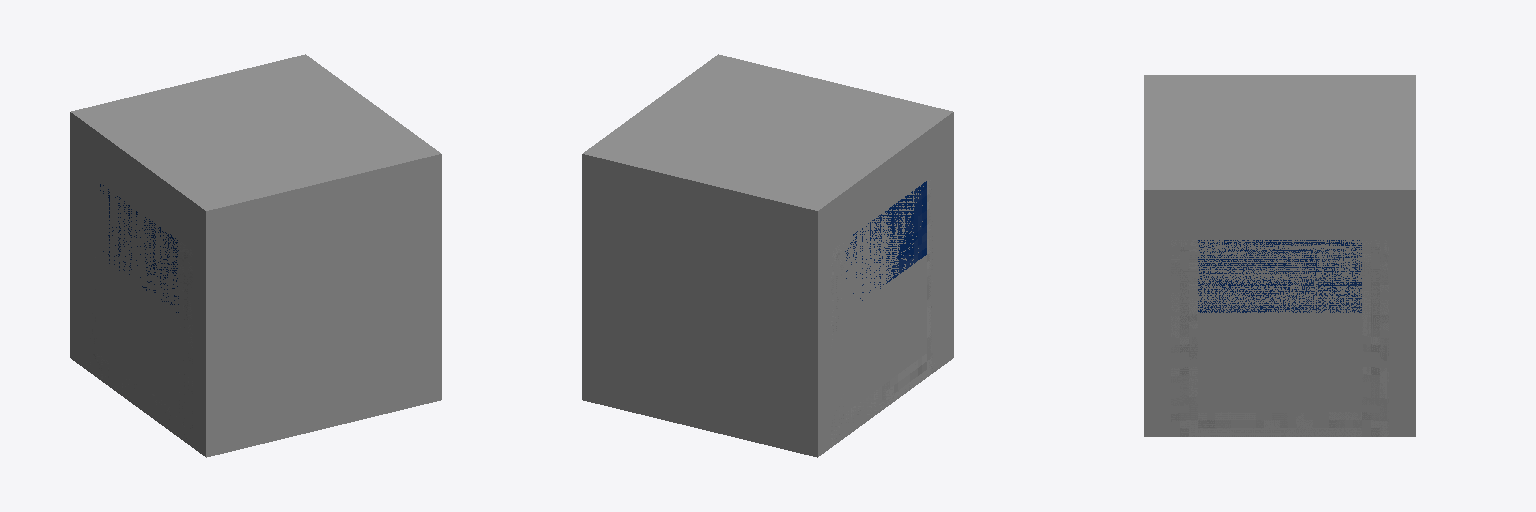
The picture shows the model from 3 angles: view 1: azimuth 30°, elevation 25°; view 2: azimuth 150°, elevation 25°; view 3: azimuth 270°, elevation 25°; orthographic projection.
Parts seen in each view (by area): view 1: Minecraft_Block_Cube, main; view 2: Minecraft_Block_Cube, main; view 3: Minecraft_Block_Cube, main.
Boxes of the visible parts, <box> form: Minecraft_Block_Cube: <box>70,54,441,457</box>; main: <box>86,184,192,445</box>; Minecraft_Block_Cube: <box>582,54,953,457</box>; main: <box>831,180,935,446</box>; Minecraft_Block_Cube: <box>1144,75,1415,436</box>; main: <box>1171,240,1388,436</box>.
Size of the model in its own units: 1 by 1 by 1.
Materials: 2 (1 with a texture image).